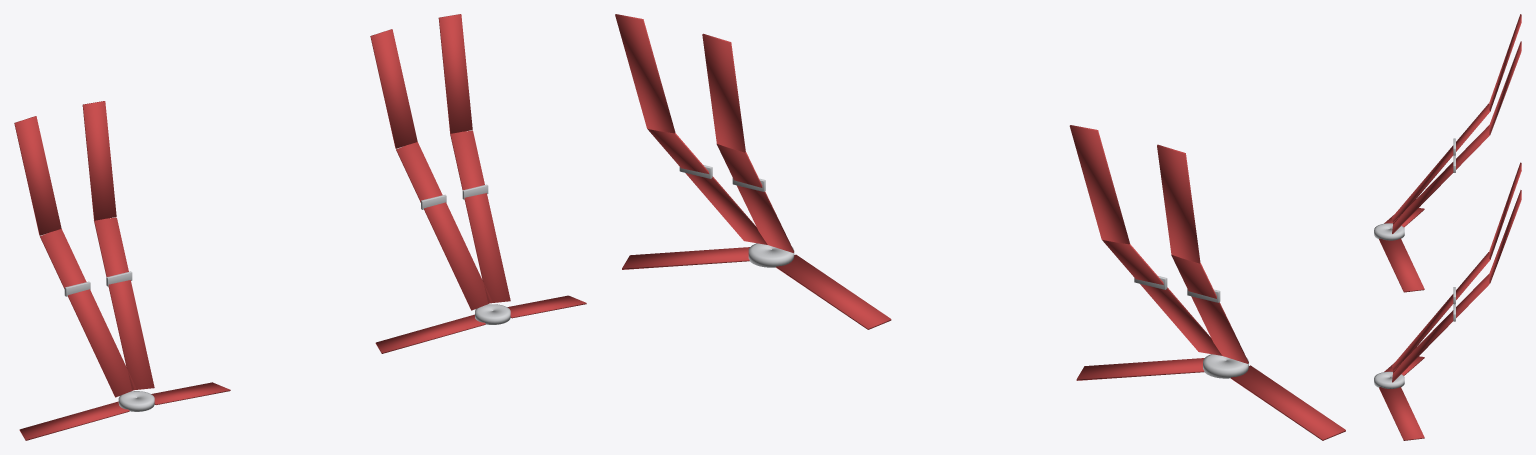
Rendered from HN01_harnesses.glb.
3 views of the same model, side by side, from view 1: azimuth 30°, elevation 25°; view 2: azimuth 150°, elevation 25°; view 3: azimuth 270°, elevation 25° (orthographic). The views are drawn at different scales.
Parts seen in each view (by area): view 1: MOD_NA_HN01_shoulder_La1, MOD_NA_HN01_shoulder_Ra1, MOD_NA_HN01_shoulder_Lb1, MOD_NA_HN01_shoulder_Rb1, MOD_NA_HN01_shoulder_La0, MOD_NA_HN01_shoulder_Ra0, MOD_NA_HN01_shoulder_Lb0, MOD_NA_HN01_shoulder_Rb0, MOD_NA_HN01_lap_Ra, MOD_NA_HN01_lap_La, MOD_NA_HN01_lap_Lb, MOD_NA_HN01_lap_Rb (+2 smaller); view 2: MOD_NA_HN01_shoulder_Lb0, MOD_NA_HN01_shoulder_Rb0, MOD_NA_HN01_shoulder_La0, MOD_NA_HN01_shoulder_Ra0, MOD_NA_HN01_shoulder_Lb1, MOD_NA_HN01_shoulder_Rb1, MOD_NA_HN01_shoulder_La1, MOD_NA_HN01_lap_La, MOD_NA_HN01_lap_Ra, MOD_NA_HN01_shoulder_Ra1, MOD_NA_HN01_lap_Lb, MOD_NA_HN01_lap_Rb (+2 smaller); view 3: MOD_NA_HN01_lap_Lb, MOD_NA_HN01_lap_Rb, MOD_NA_HN01_shoulder_Lb1, MOD_NA_HN01_shoulder_Rb1, MOD_NA_HN01_shoulder_La1, MOD_NA_HN01_shoulder_Ra1, MOD_NA_HN01_shoulder_Rb0, MOD_NA_HN01_shoulder_Lb0, MOD_NA_HN01_shoulder_Ra0, MOD_NA_HN01_shoulder_La0, MOD_NA_HN01_buckle_R, MOD_NA_HN01_buckle_L (+2 smaller).
Boxes of the visible parts, x1,y1,x2,y2 form: MOD_NA_HN01_shoulder_La1: (396,142,492,310); MOD_NA_HN01_shoulder_Ra1: (40,229,136,397); MOD_NA_HN01_shoulder_Lb1: (450,130,510,303); MOD_NA_HN01_shoulder_Rb1: (94,217,154,390); MOD_NA_HN01_shoulder_La0: (370,29,417,148); MOD_NA_HN01_shoulder_Ra0: (14,116,61,235); MOD_NA_HN01_shoulder_Lb0: (438,14,472,133); MOD_NA_HN01_shoulder_Rb0: (82,101,116,220); MOD_NA_HN01_lap_Ra: (19,401,129,440); MOD_NA_HN01_lap_La: (375,314,485,353); MOD_NA_HN01_lap_Lb: (507,295,586,318); MOD_NA_HN01_lap_Rb: (151,382,230,404); MOD_NA_HN01_shoulder_Lb0: (615,14,675,133); MOD_NA_HN01_shoulder_Rb0: (1069,125,1129,244); MOD_NA_HN01_shoulder_La0: (702,33,745,152); MOD_NA_HN01_shoulder_Ra0: (1157,144,1200,263); MOD_NA_HN01_shoulder_Lb1: (647,129,767,244); MOD_NA_HN01_shoulder_Rb1: (1102,240,1222,355); MOD_NA_HN01_shoulder_La1: (716,144,794,252); MOD_NA_HN01_lap_La: (776,254,891,329); MOD_NA_HN01_lap_Ra: (1231,365,1345,440); MOD_NA_HN01_shoulder_Ra1: (1171,254,1248,363); MOD_NA_HN01_lap_Lb: (622,247,749,269); MOD_NA_HN01_lap_Rb: (1076,358,1204,380); MOD_NA_HN01_lap_Lb: (1379,387,1424,440); MOD_NA_HN01_lap_Rb: (1379,238,1424,292); MOD_NA_HN01_shoulder_Lb1: (1392,273,1489,382); MOD_NA_HN01_shoulder_Rb1: (1392,125,1489,233); MOD_NA_HN01_shoulder_La1: (1392,252,1490,372); MOD_NA_HN01_shoulder_Ra1: (1392,103,1490,223); MOD_NA_HN01_shoulder_Rb0: (1489,41,1521,134); MOD_NA_HN01_shoulder_Lb0: (1489,190,1521,283); MOD_NA_HN01_shoulder_Ra0: (1489,14,1521,110); MOD_NA_HN01_shoulder_La0: (1489,162,1521,258); MOD_NA_HN01_buckle_R: (1374,223,1404,240); MOD_NA_HN01_buckle_L: (1374,371,1404,388).
Bounding box in the file's own units: 1.23 × 0.5341 × 0.3275.
